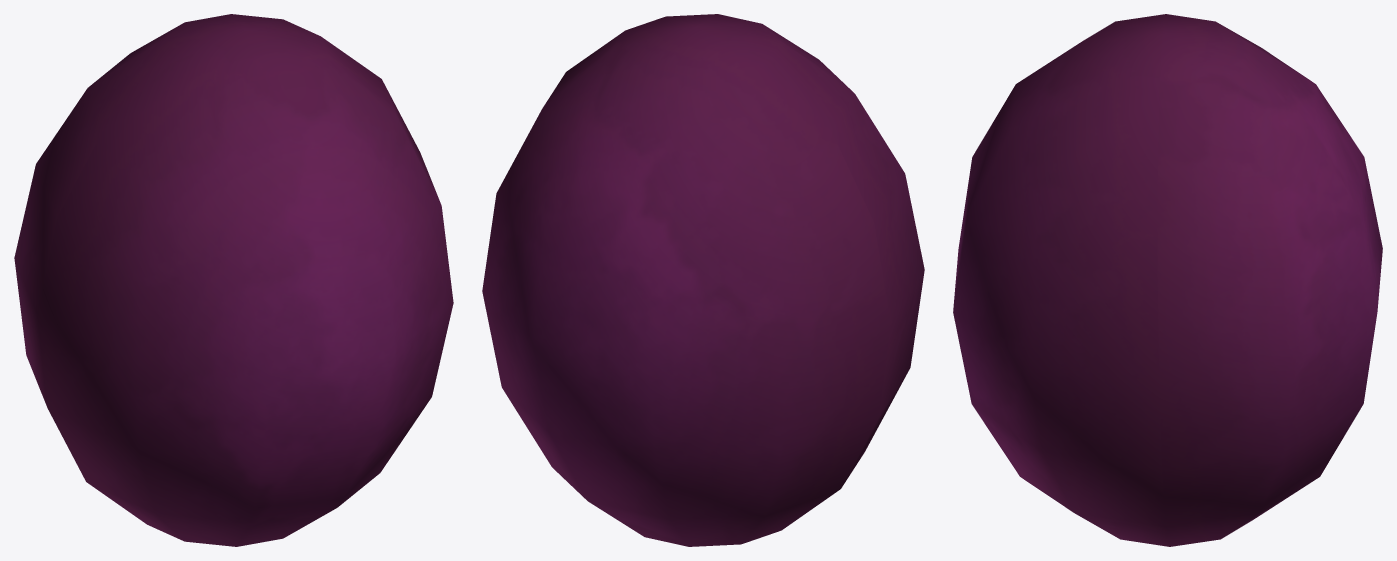
Rendered from Grape_Purple.fbx.
The picture shows the model from 3 angles, left to right: view 1: azimuth 30°, elevation 25°; view 2: azimuth 150°, elevation 25°; view 3: azimuth 270°, elevation 25°; orthographic projection.
Parts seen in each view (by area): view 1: Grape_Purple; view 2: Grape_Purple; view 3: Grape_Purple.
Boxes of the visible parts, <box> form: Grape_Purple: <box>14,14,453,546</box>; Grape_Purple: <box>482,14,924,546</box>; Grape_Purple: <box>953,14,1382,546</box>.
Size of the model in its own units: 11.53 by 14.31 by 11.11.
